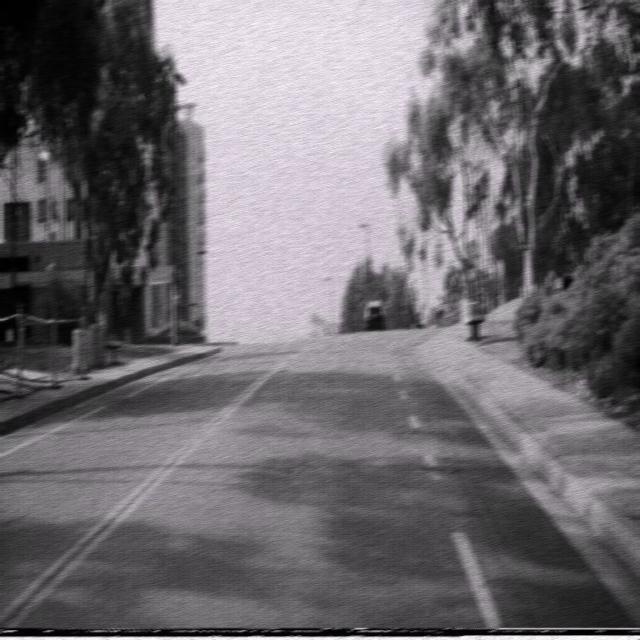stop: (465, 237, 480, 264)
